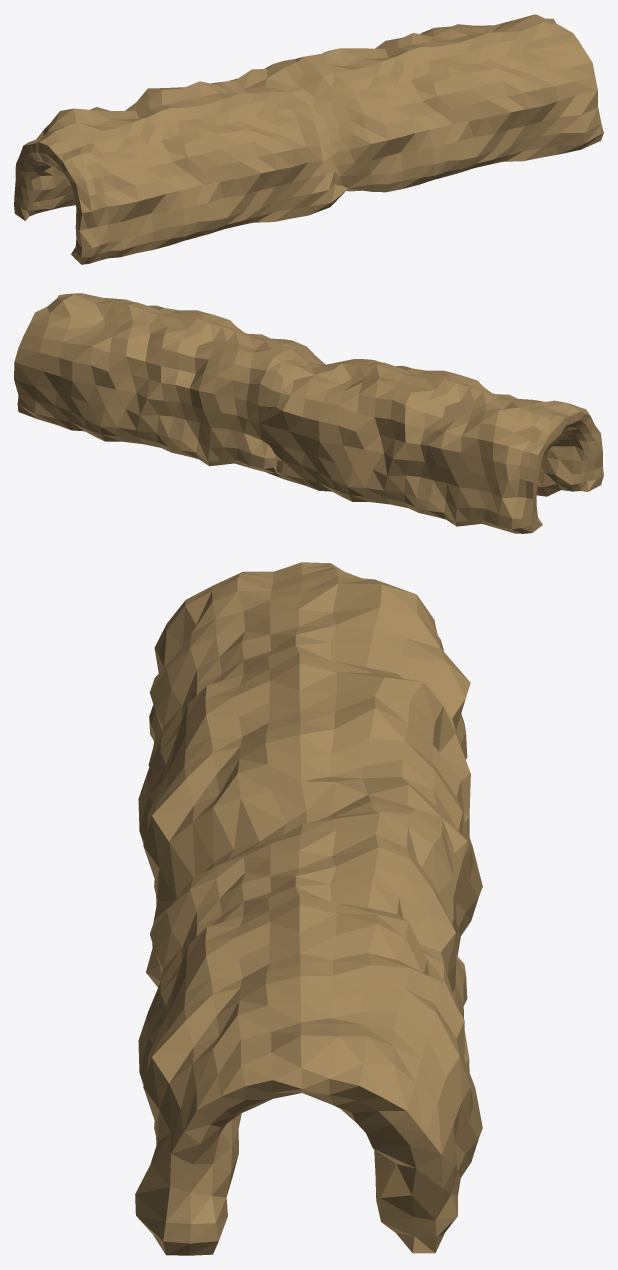
The model's file is Cave.fbx.
3 renders of one model, top to bottom at view 1: azimuth 30°, elevation 25°; view 2: azimuth 150°, elevation 25°; view 3: azimuth 270°, elevation 25°, orthographic. The views are drawn at different scales.
Visible parts, largest first — view 1: cave; view 2: cave; view 3: cave.
Boxes of the visible parts, bbox=[...] form: cave: bbox=[14, 14, 603, 264]; cave: bbox=[14, 293, 603, 533]; cave: bbox=[135, 562, 482, 1255].
Bounding box in the file's own units: 8500 × 1769 × 2451.
